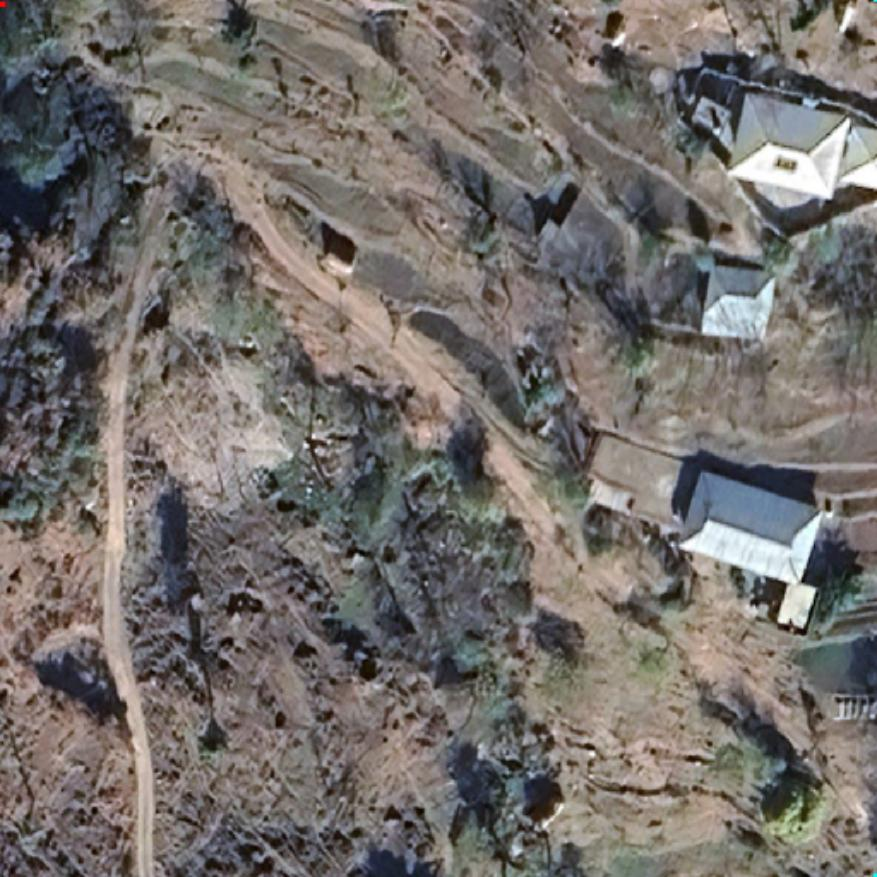Solarpanel: (771, 155, 799, 173)
